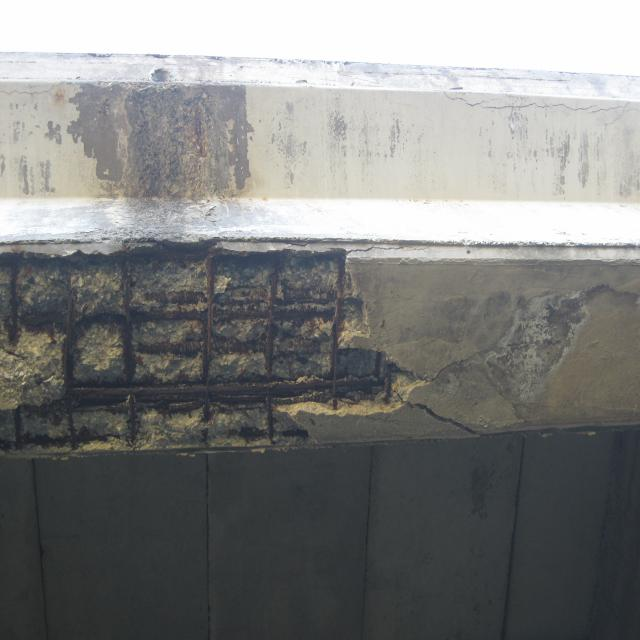corrosion: (131, 0, 303, 552), (358, 248, 426, 283), (401, 70, 415, 90)
